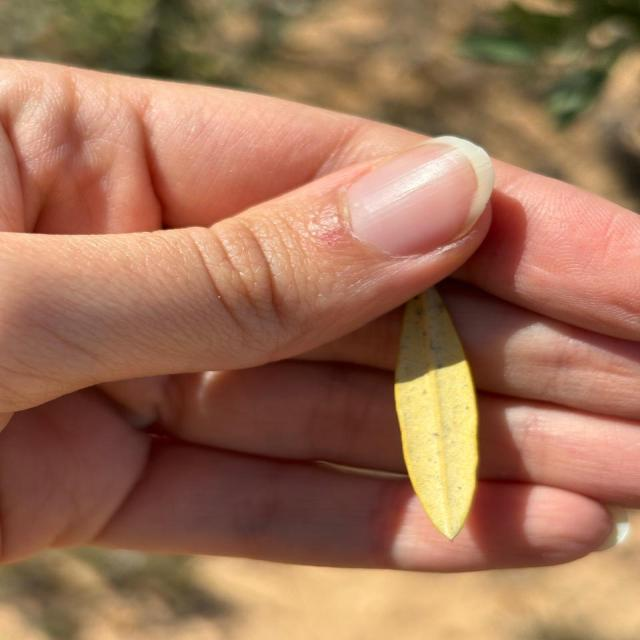Peacock Eye: (395, 288, 479, 540)
